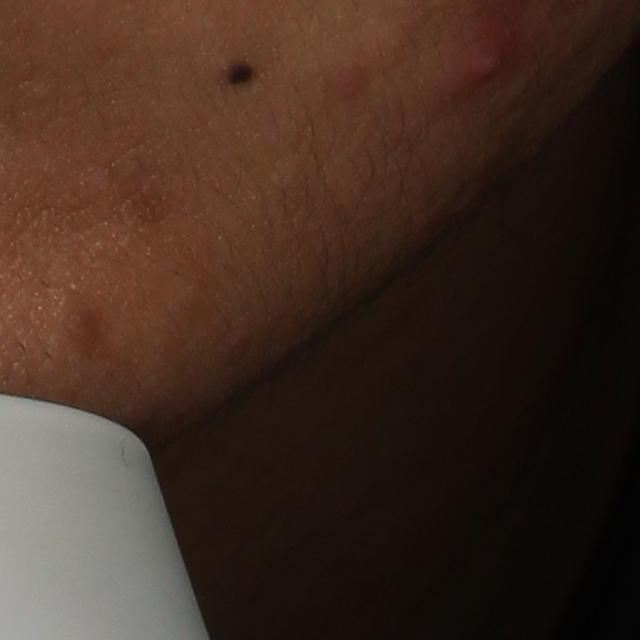nevus: (218, 51, 255, 91)
